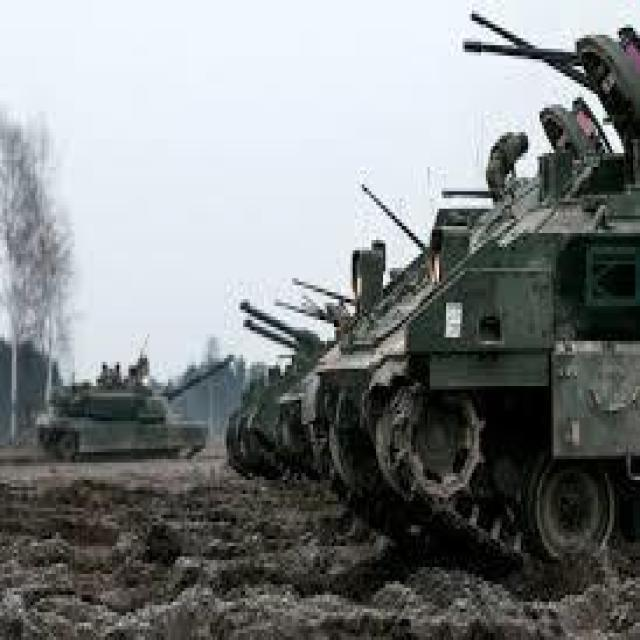Tanks: (323, 143, 622, 532), (227, 352, 362, 491), (36, 363, 202, 468)
